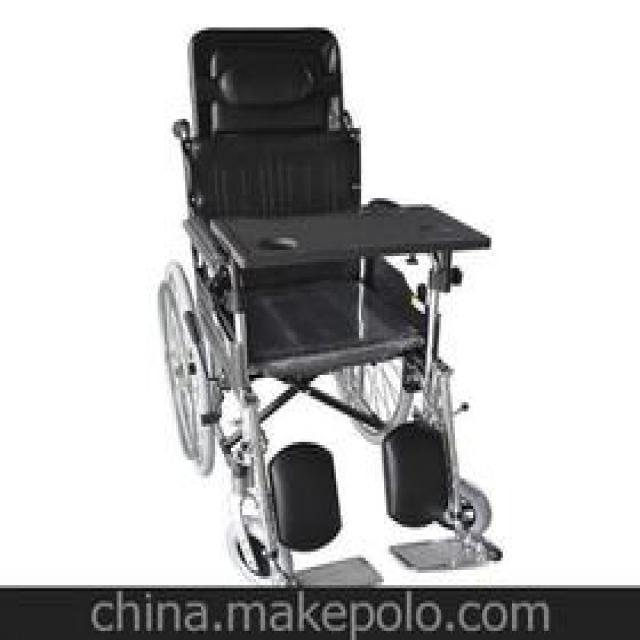wheelchair: (153, 18, 510, 579)
